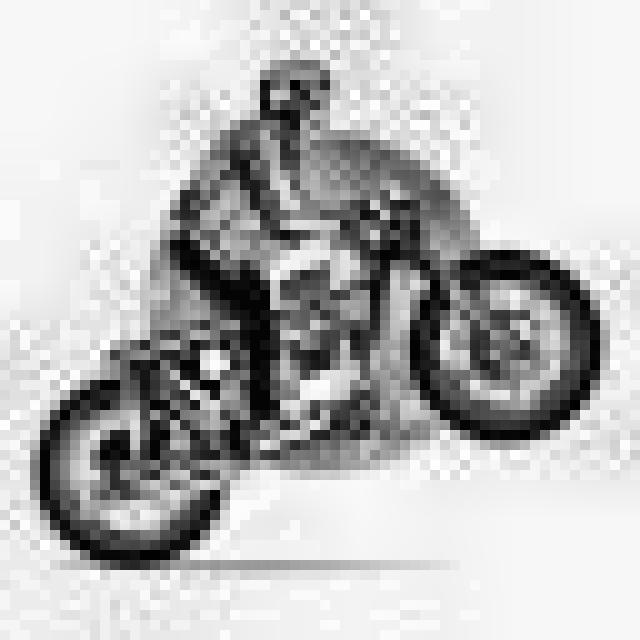mopeds: (29, 179, 622, 576)
